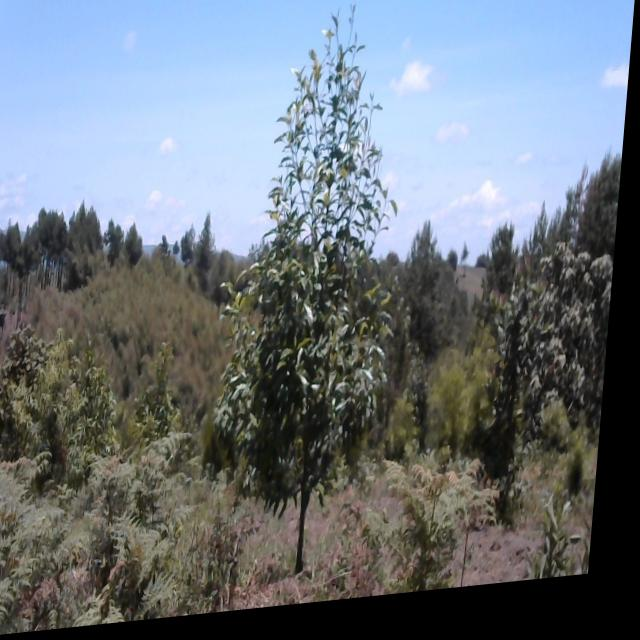Hass Avocado: (136, 339, 193, 474), (73, 336, 132, 464)
Syzygium gineense: (211, 9, 417, 569), (476, 262, 572, 516)
cedrus: (407, 229, 447, 303), (70, 202, 109, 276), (39, 209, 73, 288), (0, 215, 29, 283), (200, 218, 222, 276), (127, 222, 152, 268)
other: (0, 311, 60, 472)
